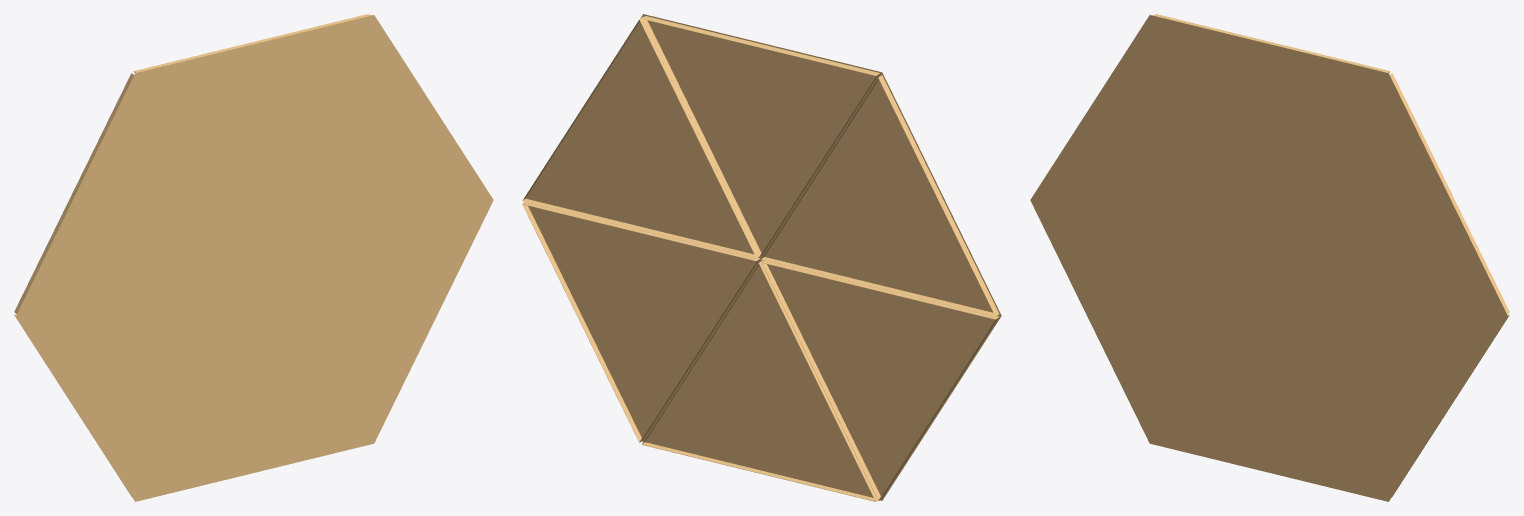
File: hexagono.fbx
The picture shows the model from 3 angles, left to right: view 1: azimuth 30°, elevation 25°; view 2: azimuth 150°, elevation 25°; view 3: azimuth 330°, elevation 25°; orthographic projection.
Parts seen in each view (by area): view 1: Plane; view 2: Plane; view 3: Plane.
Boxes of the visible parts, x1,y1,x2,y2 form: Plane: (14,14,493,501); Plane: (522,14,1001,501); Plane: (1030,14,1509,501).
Bounding box in the file's own units: 35 × 30 × 0.5.
